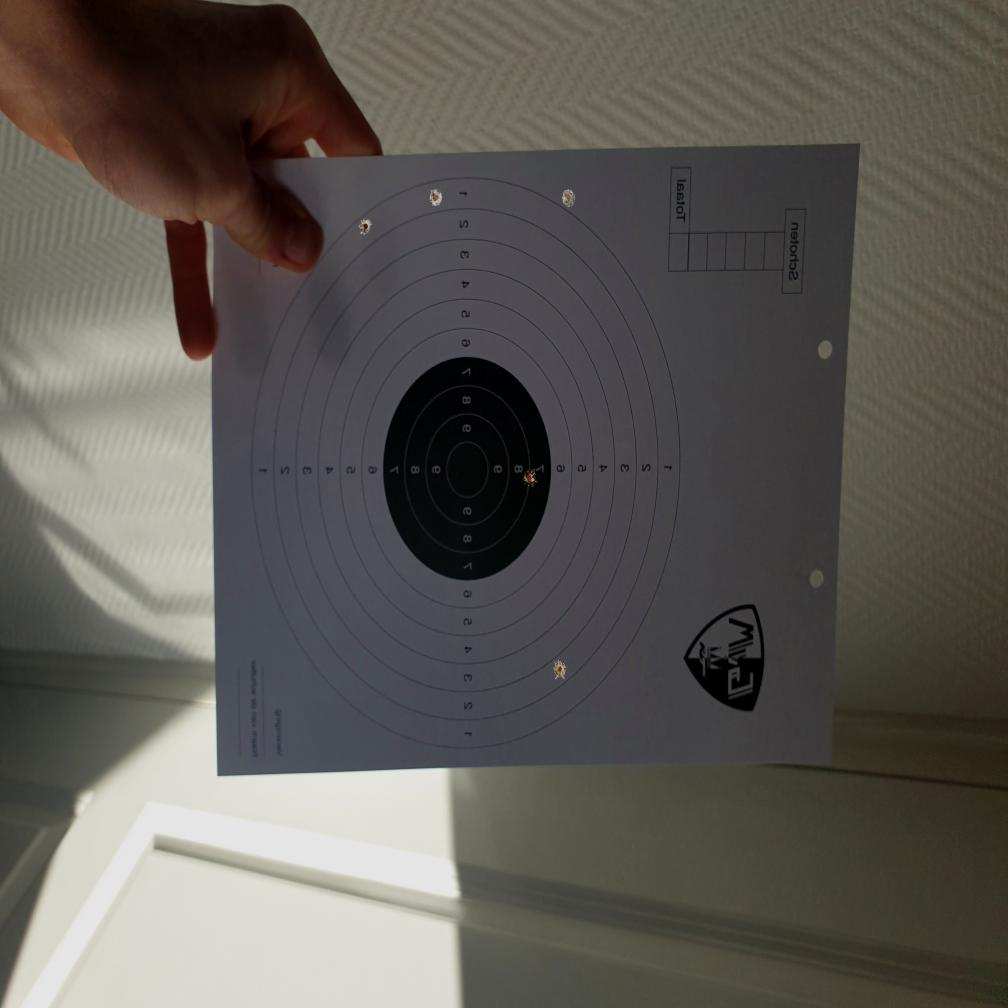0: (562, 188, 575, 207)
1: (429, 188, 443, 207), (358, 218, 371, 235)
2: (553, 660, 567, 679)
8: (522, 466, 538, 488)
Target: (250, 175, 680, 750)
black_contour: (382, 356, 551, 581)
